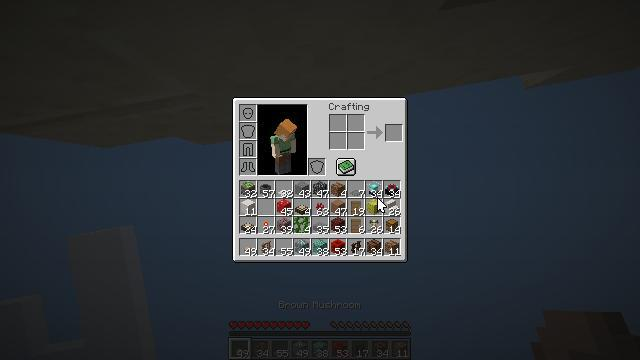cursor: (377, 197, 387, 213)
